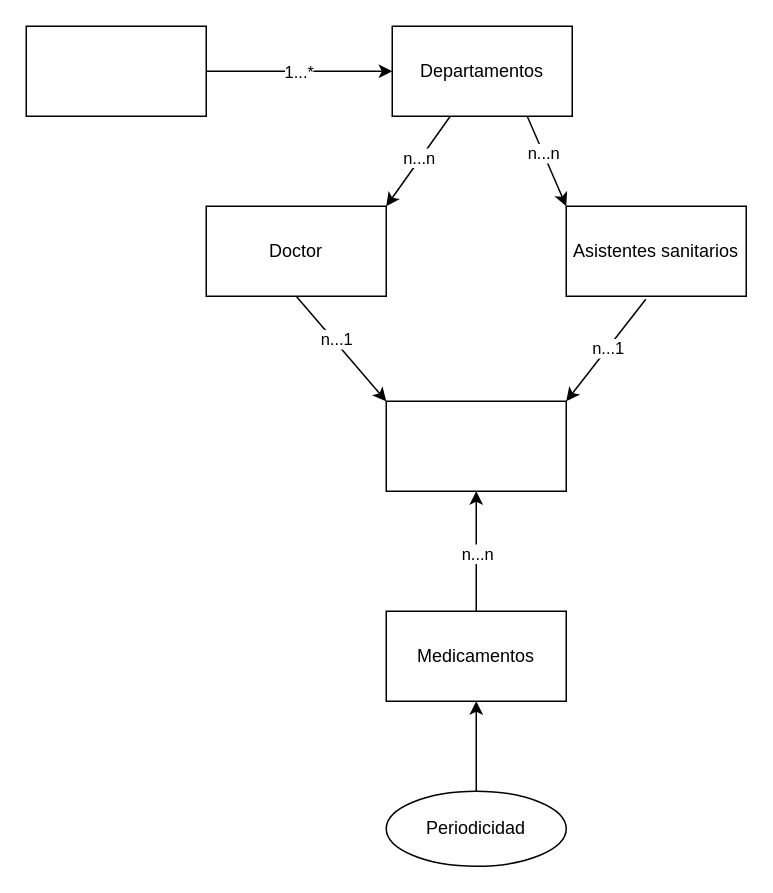
Image size: 773x893. Some labels were removed from this diagram. Here are the shapes that lost their labels. From the top down, the centre of each, then its label:
At (x=115, y=70): "Hospital".
At (x=475, y=445): "Pacientes".
